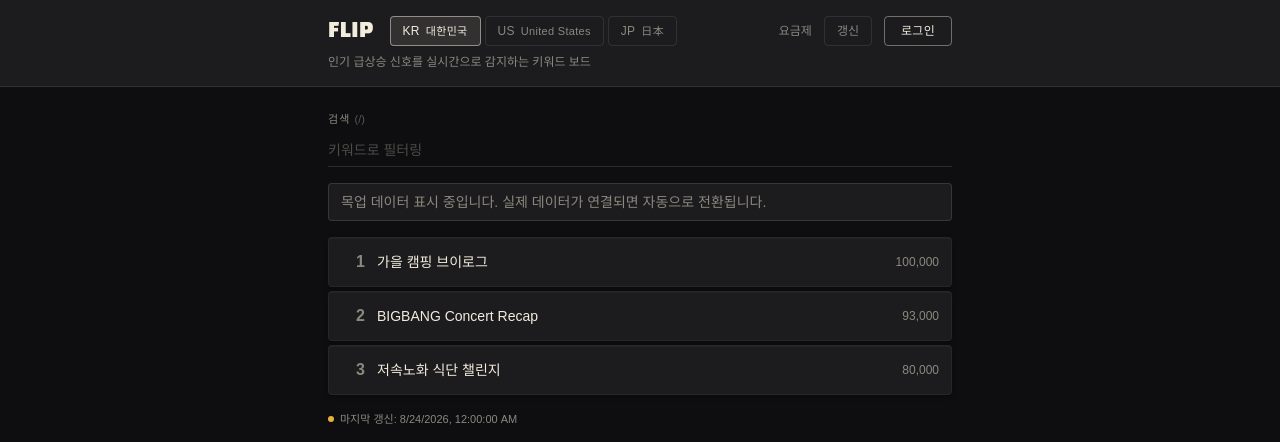
Scenario: Home dashboard › keyword search/filter › filters by Korean substring, case-insensitively (Hangul has no case, but the match must still work)
Check: the button "가을 캠핑 브이로그" is shown, box x1=377 y1=248 x2=884 y2=276
Type "캠핑" into the field labelled "검색 (/)".
click(640, 150); type("캠핑")  # box x1=328 y1=134 x2=952 y2=166
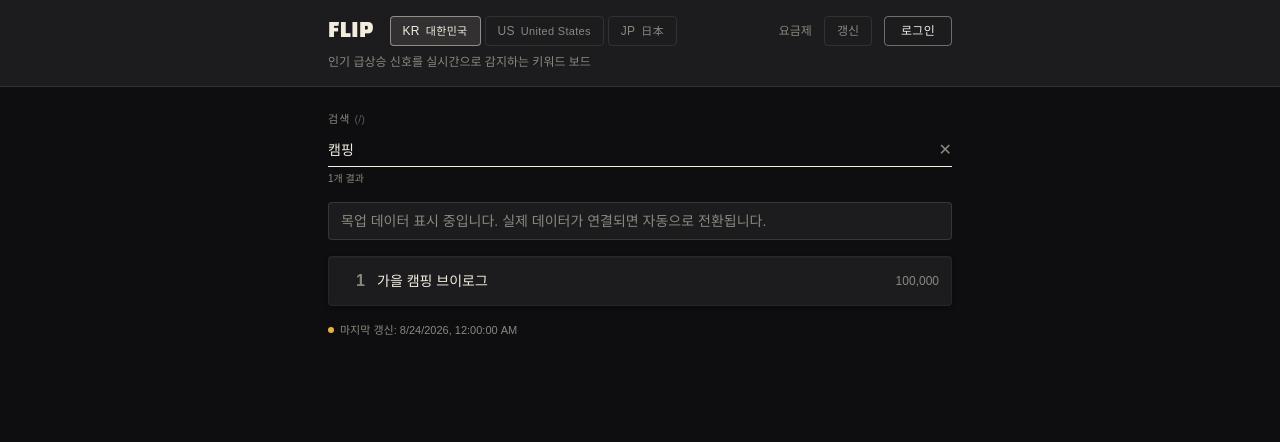
Check: the button "BIGBANG Concert Recap" is gone
Check: the button "저속노화 식단 챌린지" is gone
Check: the text "1개 결과" is shown, box x1=328 y1=172 x2=364 y2=184
